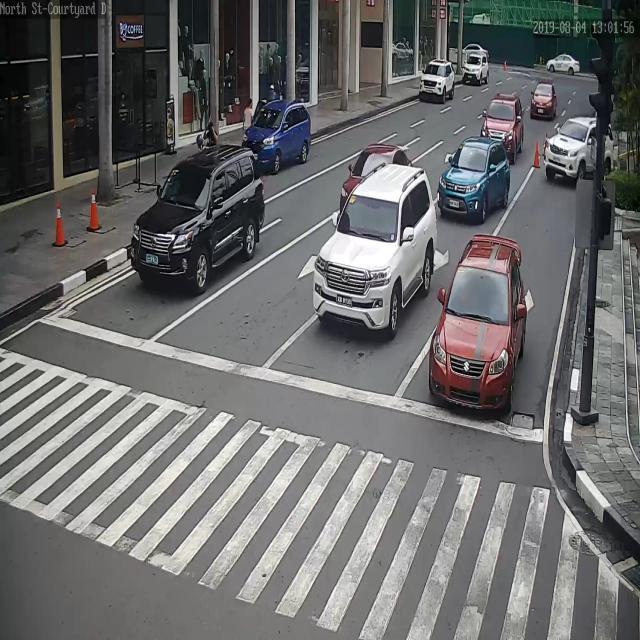car: (314, 163, 437, 334), (130, 144, 265, 296), (428, 235, 527, 414), (436, 138, 511, 221), (339, 140, 413, 220), (244, 99, 313, 175), (543, 117, 615, 185), (480, 95, 524, 160), (418, 59, 455, 104), (462, 50, 490, 87), (530, 82, 557, 120), (545, 53, 580, 75)
jeepney: (196, 119, 220, 152)
